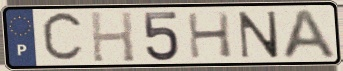5: (141, 10, 181, 62)
A: (279, 7, 340, 61)
C: (39, 9, 86, 66)
H: (88, 10, 137, 64), (184, 10, 234, 60)
N: (237, 9, 281, 60)
